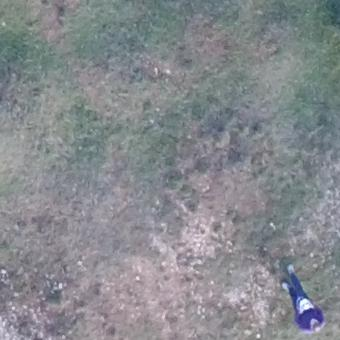human: (276, 260, 326, 334)
